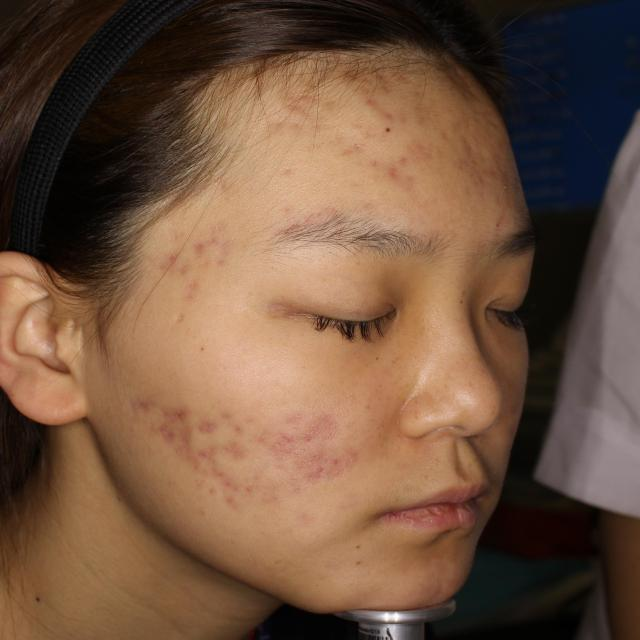Acne: (146, 382, 360, 508), (342, 57, 424, 190), (458, 98, 528, 218), (141, 231, 227, 322)
